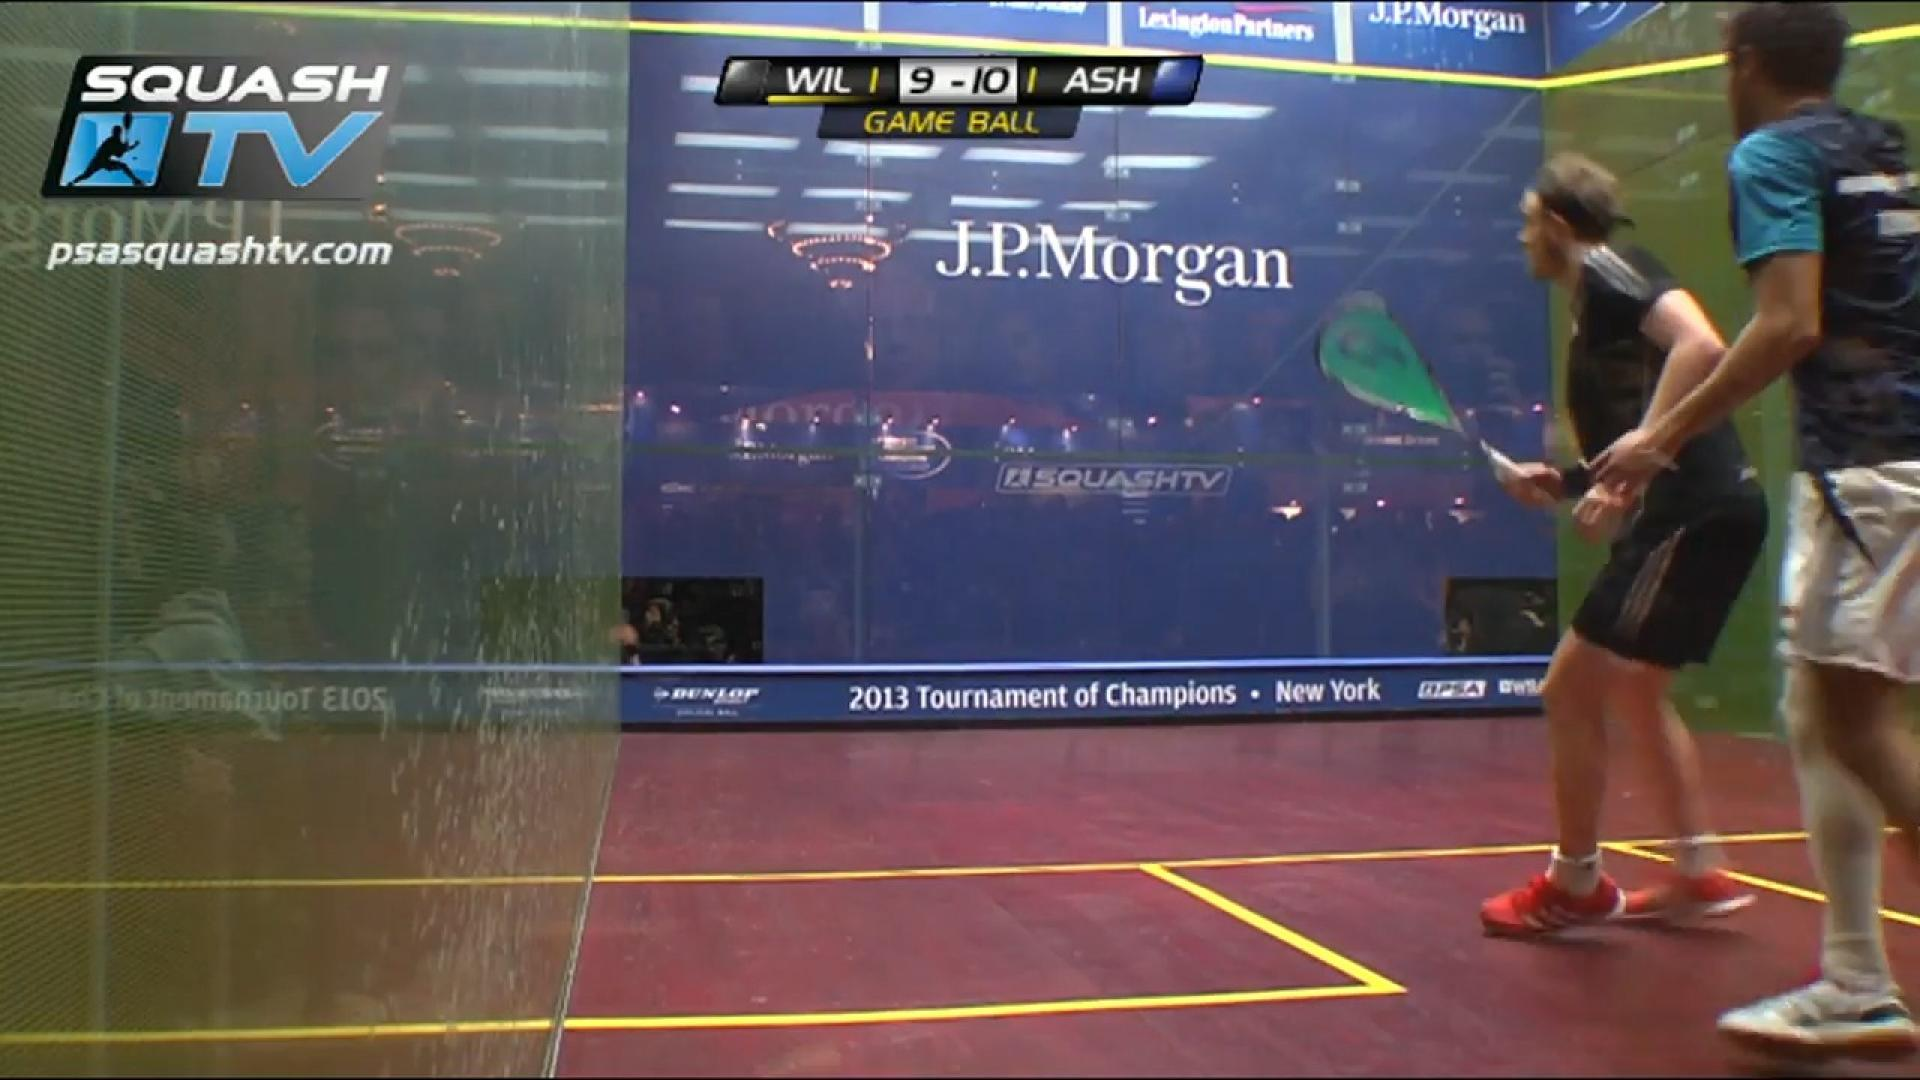Squash-Ball: (745, 415, 779, 439)
